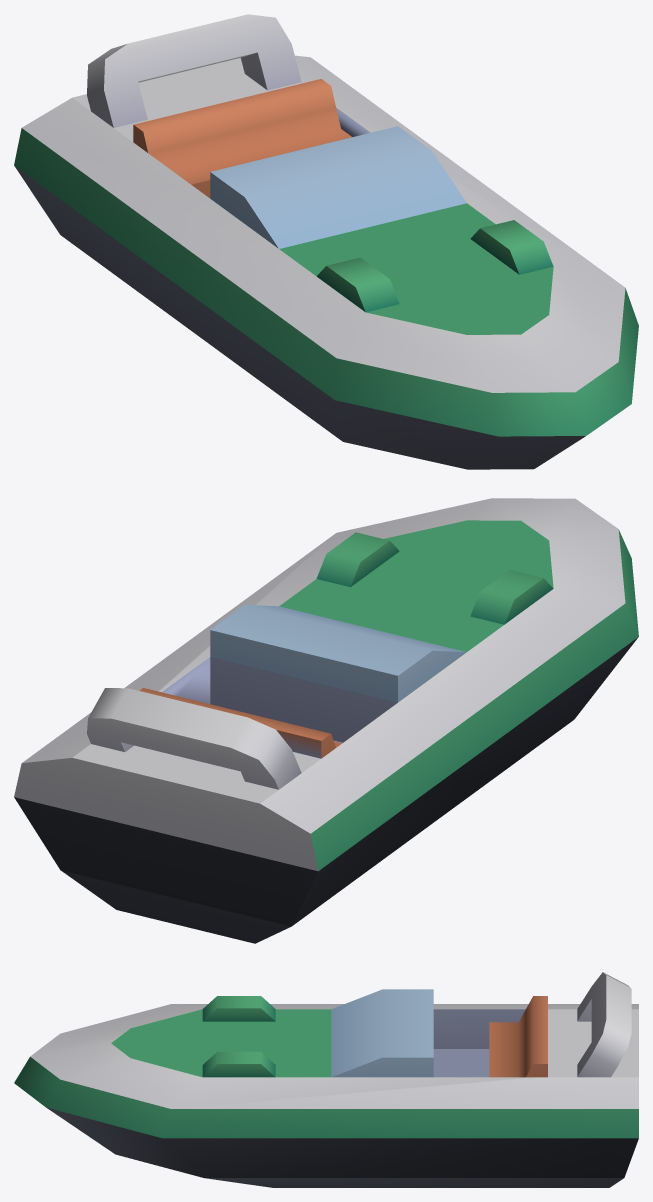
Rendered from boat-speed-j.glb.
The picture shows the model from 3 angles, top to bottom: view 1: azimuth 30°, elevation 25°; view 2: azimuth 150°, elevation 25°; view 3: azimuth 270°, elevation 25°; orthographic projection. The views are drawn at different scales.
Parts seen in each view (by area): view 1: boat-speed-j; view 2: boat-speed-j; view 3: boat-speed-j.
Part boxes in pixels (box(x1,y1,x2,y2)): boat-speed-j: box(14, 14, 638, 469); boat-speed-j: box(14, 498, 638, 943); boat-speed-j: box(14, 972, 638, 1187).
Size of the model in its own units: 1.78 by 1.25 by 4.27.
